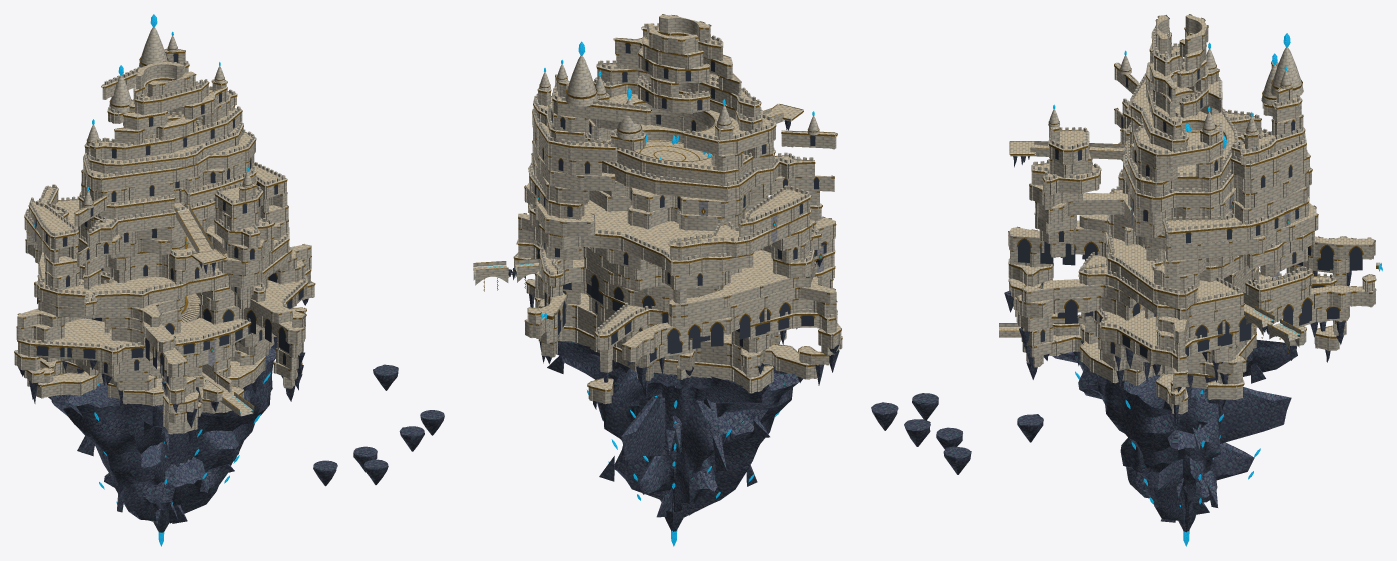
File: skycitadel.glb
3 views of the same model, side by side, from view 1: azimuth 30°, elevation 25°; view 2: azimuth 150°, elevation 25°; view 3: azimuth 270°, elevation 25° (orthographic). The views are drawn at different scales.
Parts seen in each view (by area): view 1: CC_castle_skycitadel; view 2: CC_castle_skycitadel; view 3: CC_castle_skycitadel.
Part boxes in pixels (left/top/right/bottom): CC_castle_skycitadel: left=14, top=14, right=444, bottom=546; CC_castle_skycitadel: left=473, top=14, right=842, bottom=546; CC_castle_skycitadel: left=871, top=14, right=1382, bottom=546.
Bounding box in the file's own units: 101 × 146 × 127.
Materials: 7 (6 with a texture image).
